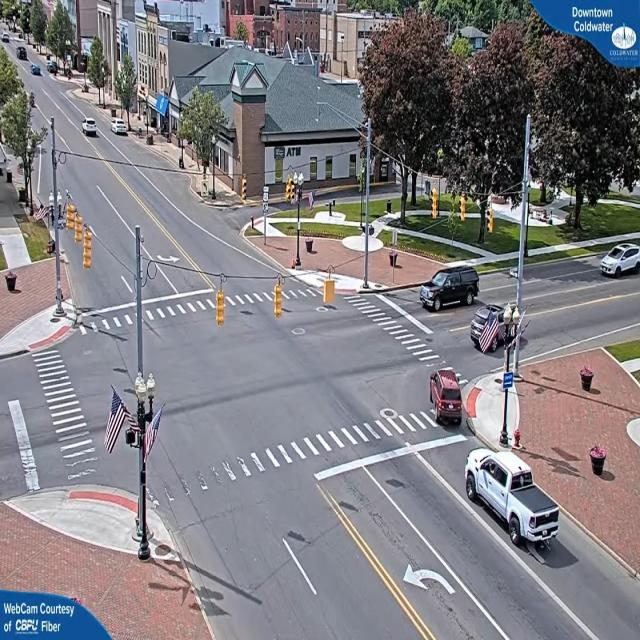car: (466, 454, 562, 548), (422, 264, 481, 310), (471, 306, 519, 358), (429, 370, 466, 428), (598, 242, 640, 280), (112, 120, 130, 138), (84, 119, 100, 137), (17, 48, 28, 62), (30, 65, 40, 76)
